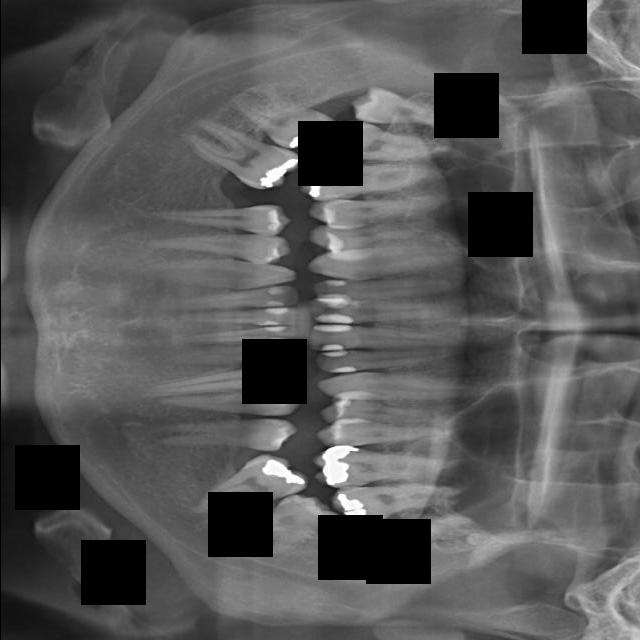3M ESPE Implant: (346, 80, 469, 142)
AGS Medikal Implant: (310, 347, 475, 374)
AMerOss Implant: (313, 369, 510, 406)
Amalgam filling: (318, 399, 460, 425)
Anthogyr Implant: (313, 422, 457, 447)
Bicon Implant: (311, 444, 474, 489)
BioHorizons Implant: (328, 473, 466, 529)
BioLife Implant: (354, 495, 486, 570)
Biomet 3i Implant: (233, 478, 344, 568)
Blue Sky Bio Implant: (177, 440, 312, 538)
Caries: (314, 117, 455, 168)
Composite filling: (123, 414, 303, 453)
Cowellmedi Implant: (153, 389, 305, 417)
Crown: (132, 363, 307, 398)
DENTSPLY Implant: (163, 343, 303, 369)
Dentatus Implant: (174, 325, 299, 344)
Dentis Implant: (171, 307, 297, 327)
Dentium Implant: (154, 284, 301, 314)
Euroteknika Implant: (113, 248, 300, 296)
Filling: (138, 224, 296, 265)
Frontier Implant: (136, 193, 293, 236)
Hiossen Implant: (295, 151, 439, 201)
Implant: (166, 110, 305, 202)
Keystone Dental Implant: (219, 75, 339, 163)
MIS Implant: (303, 191, 453, 227)
Mandible: (302, 216, 457, 252)
Maxilla: (301, 233, 490, 286)
Megagen Implant: (310, 279, 472, 299)
Neodent Implant: (305, 296, 481, 325)
Neoss Implant: (308, 324, 469, 350)
